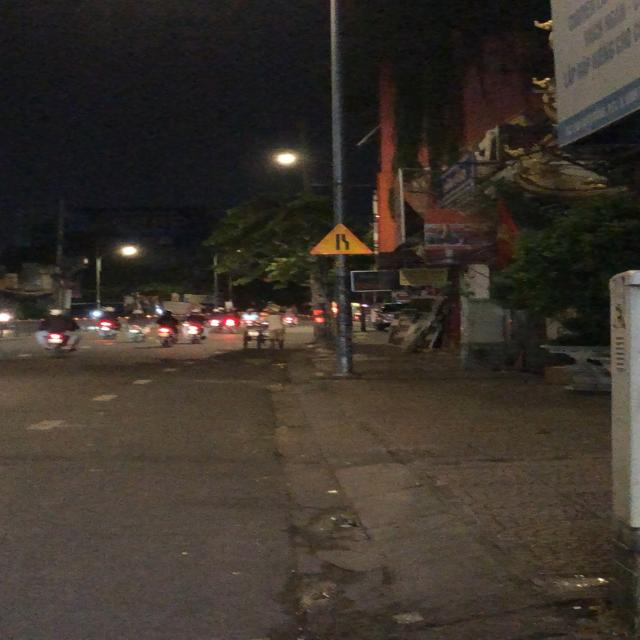Bien bao duong bi thu hep: (307, 220, 378, 260)
